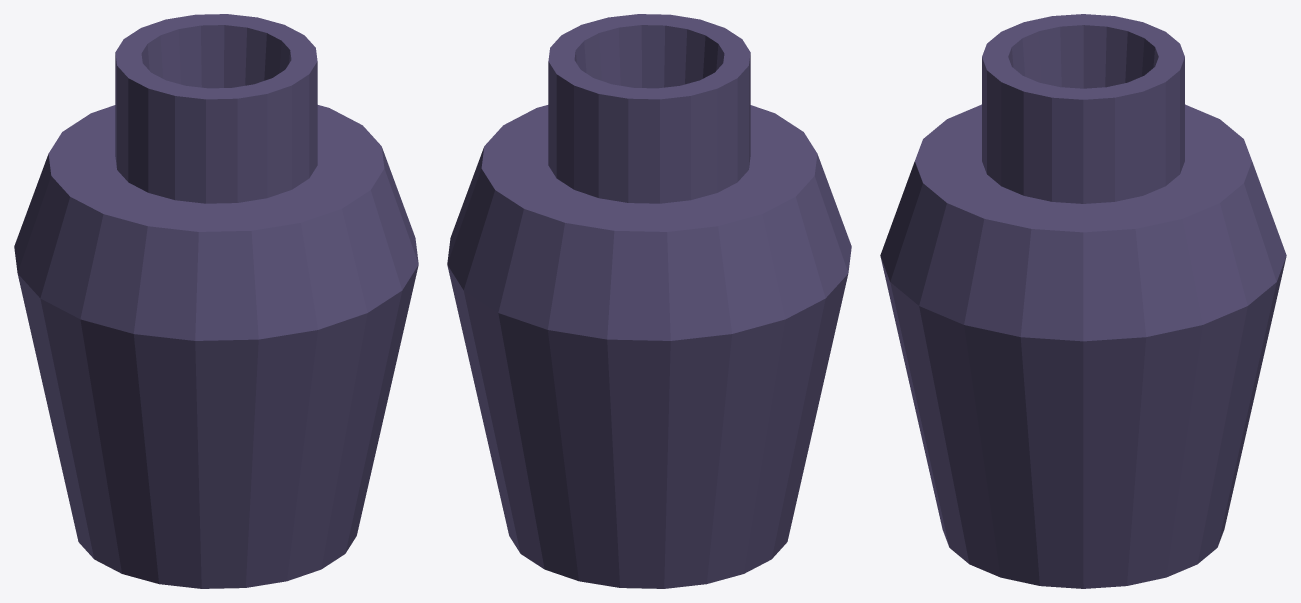
File: vaso2.fbx
3 renders of one model, left to right at view 1: azimuth 30°, elevation 25°; view 2: azimuth 150°, elevation 25°; view 3: azimuth 270°, elevation 25°, orthographic.
Parts seen in each view (by area): view 1: Cylinder; view 2: Cylinder; view 3: Cylinder.
Part boxes in pixels (x1=…): Cylinder: x1=14, y1=14, x2=418, y2=588; Cylinder: x1=447, y1=14, x2=851, y2=588; Cylinder: x1=880, y1=14, x2=1286, y2=588.
Size of the model in its own units: 200 by 257 by 200.
1 material, 1 textured.
